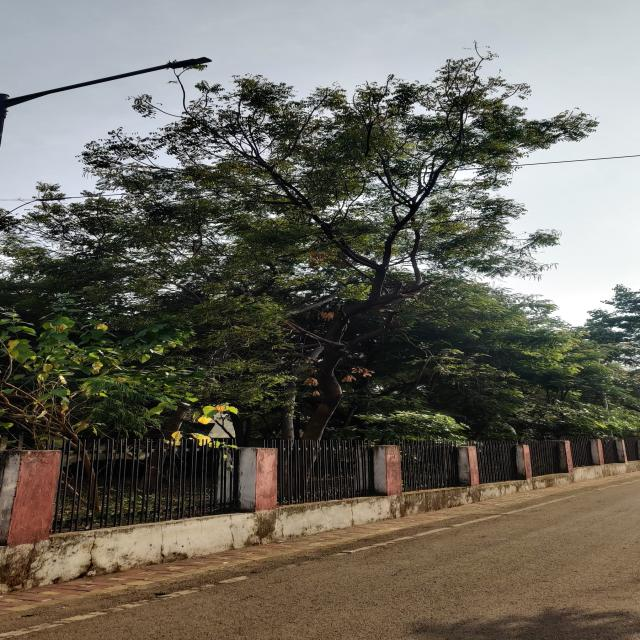Neem Tree: (91, 63, 461, 368)
